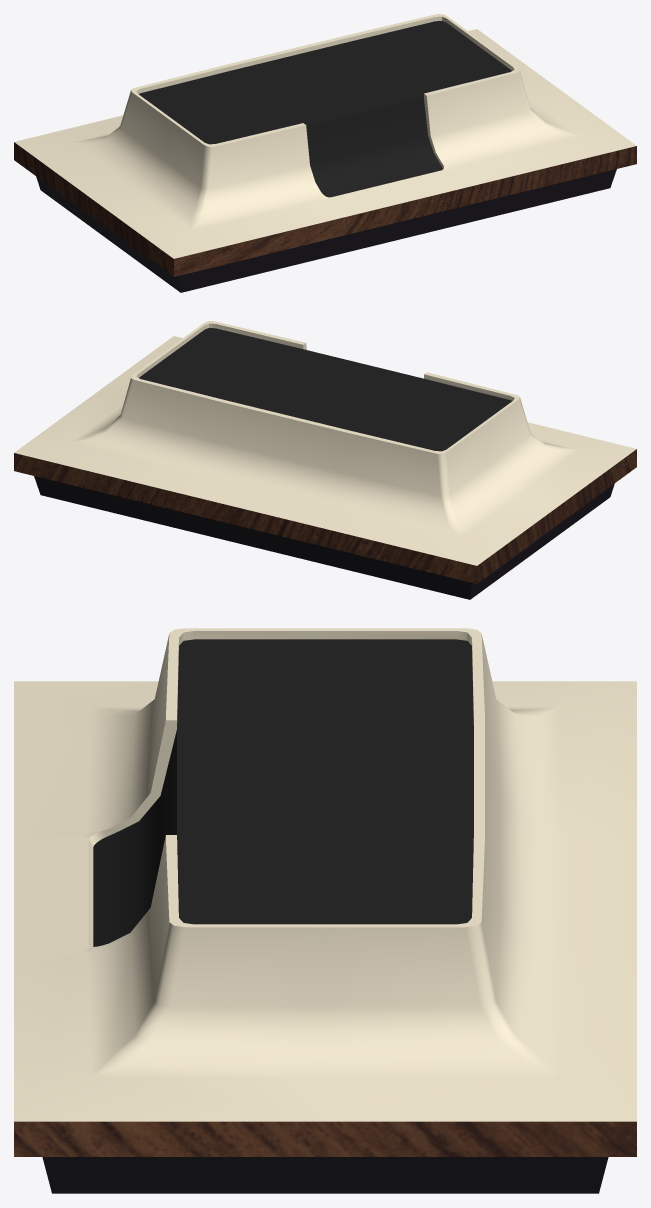
The model's file is MagnavoxConsoleBlendExport.fbx.
The picture shows the model from 3 angles, top to bottom: view 1: azimuth 30°, elevation 25°; view 2: azimuth 150°, elevation 25°; view 3: azimuth 270°, elevation 25°; orthographic projection. The views are drawn at different scales.
Visible parts, largest first — view 1: MagnevoxOdysseyConsole3.001, MagnevoxOdysseyConsole3; view 2: MagnevoxOdysseyConsole3.001, MagnevoxOdysseyConsole3; view 3: MagnevoxOdysseyConsole3.001, MagnevoxOdysseyConsole3.
Part boxes in pixels (x1,y1,x2,y2): MagnevoxOdysseyConsole3.001: (14,14,636,292); MagnevoxOdysseyConsole3: (139,21,511,197); MagnevoxOdysseyConsole3.001: (14,321,636,599); MagnevoxOdysseyConsole3: (139,328,511,451); MagnevoxOdysseyConsole3.001: (14,628,636,1193); MagnevoxOdysseyConsole3: (93,639,473,946).
Size of the model in its own units: 516 by 116 by 308.
Materials: 4 (1 with a texture image).
